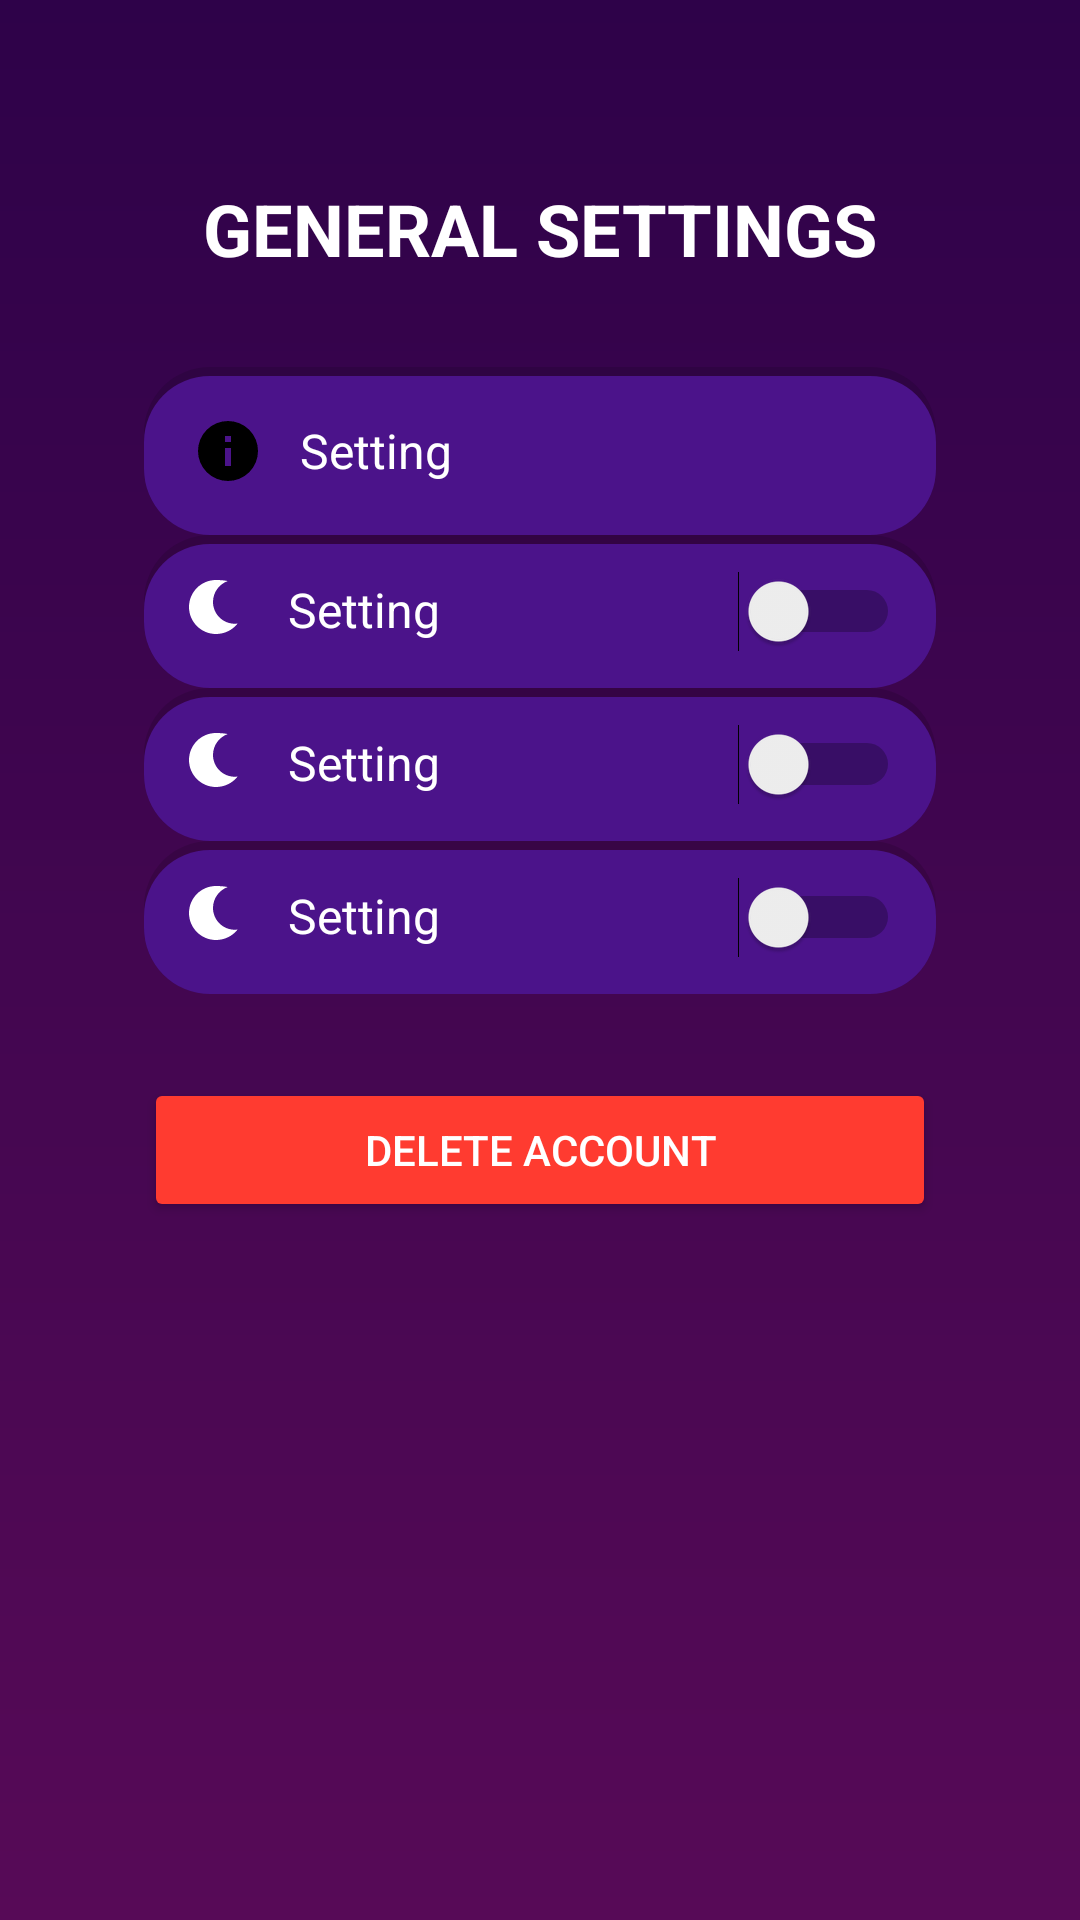

Point at icon controls on the screen. Image size 1080×1920, points as (x,y).
darkmode: (213,607), (213,760), (213,913)
info: (228,451)
